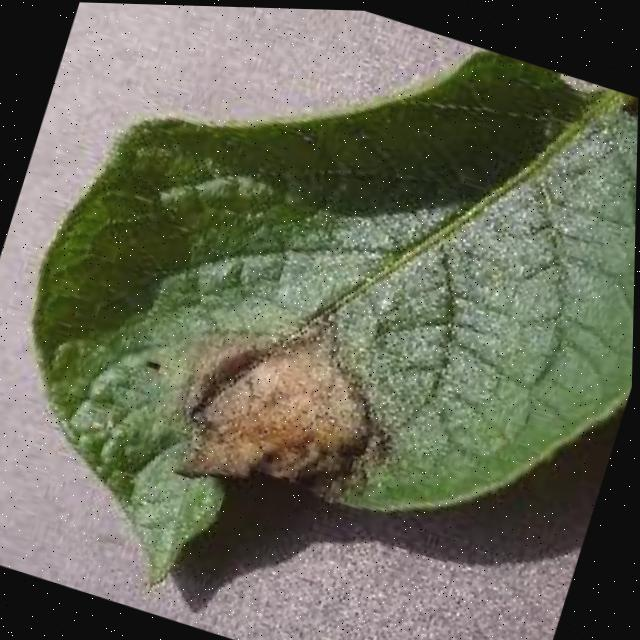Late_blight: (149, 290, 437, 551)
